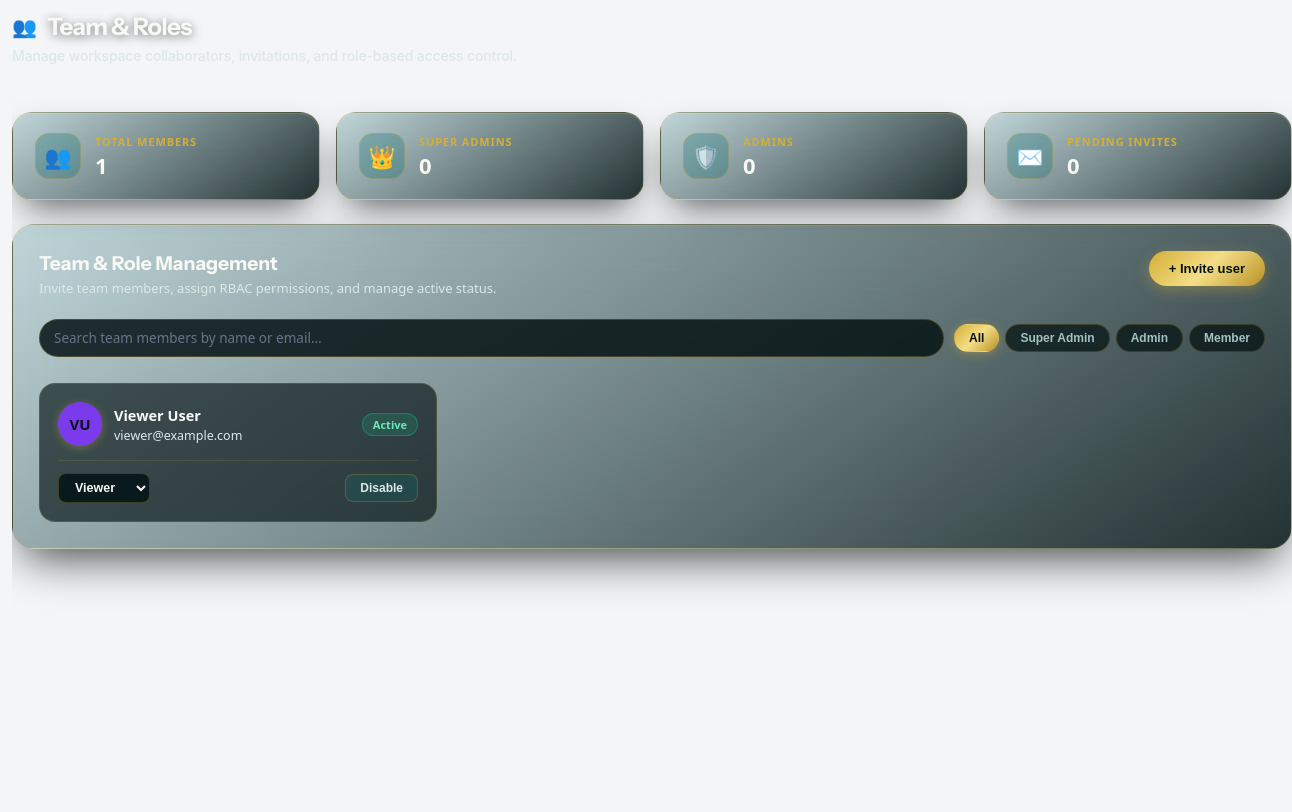
Test: TeamPage › disables a member via the toggle button
expect the text "Viewer User" is shown: met, box x1=114 y1=404 x2=201 y2=424
What coordinates should you click on to do the following:
click the button "Disable"
I would click on:
 (382, 488)
Its box is x1=345 y1=474 x2=418 y2=502.
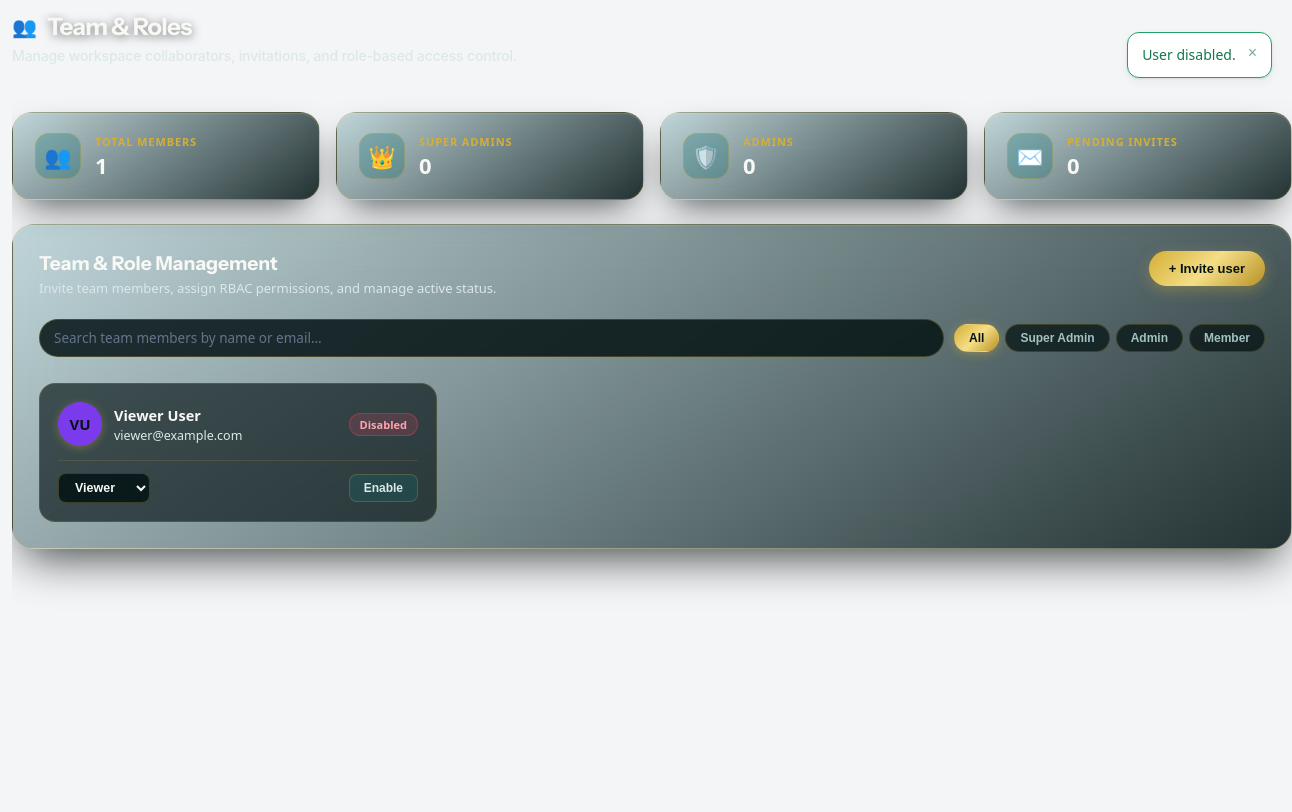
expect the text "Disabled" is shown: met, box x1=349 y1=412 x2=418 y2=436
